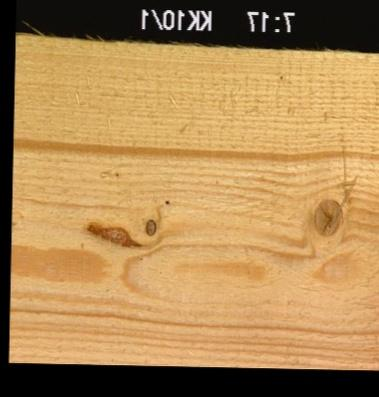dry_knot: (143, 217, 156, 236)
sound_knot: (311, 194, 343, 237)
